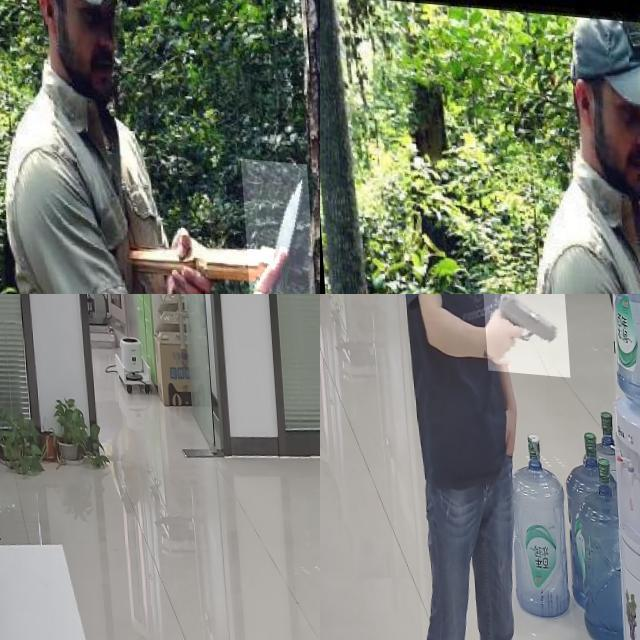-: (237, 150, 314, 294)
gun-knife-thesis - v11 Yolov5 augmented: (479, 294, 565, 369)
